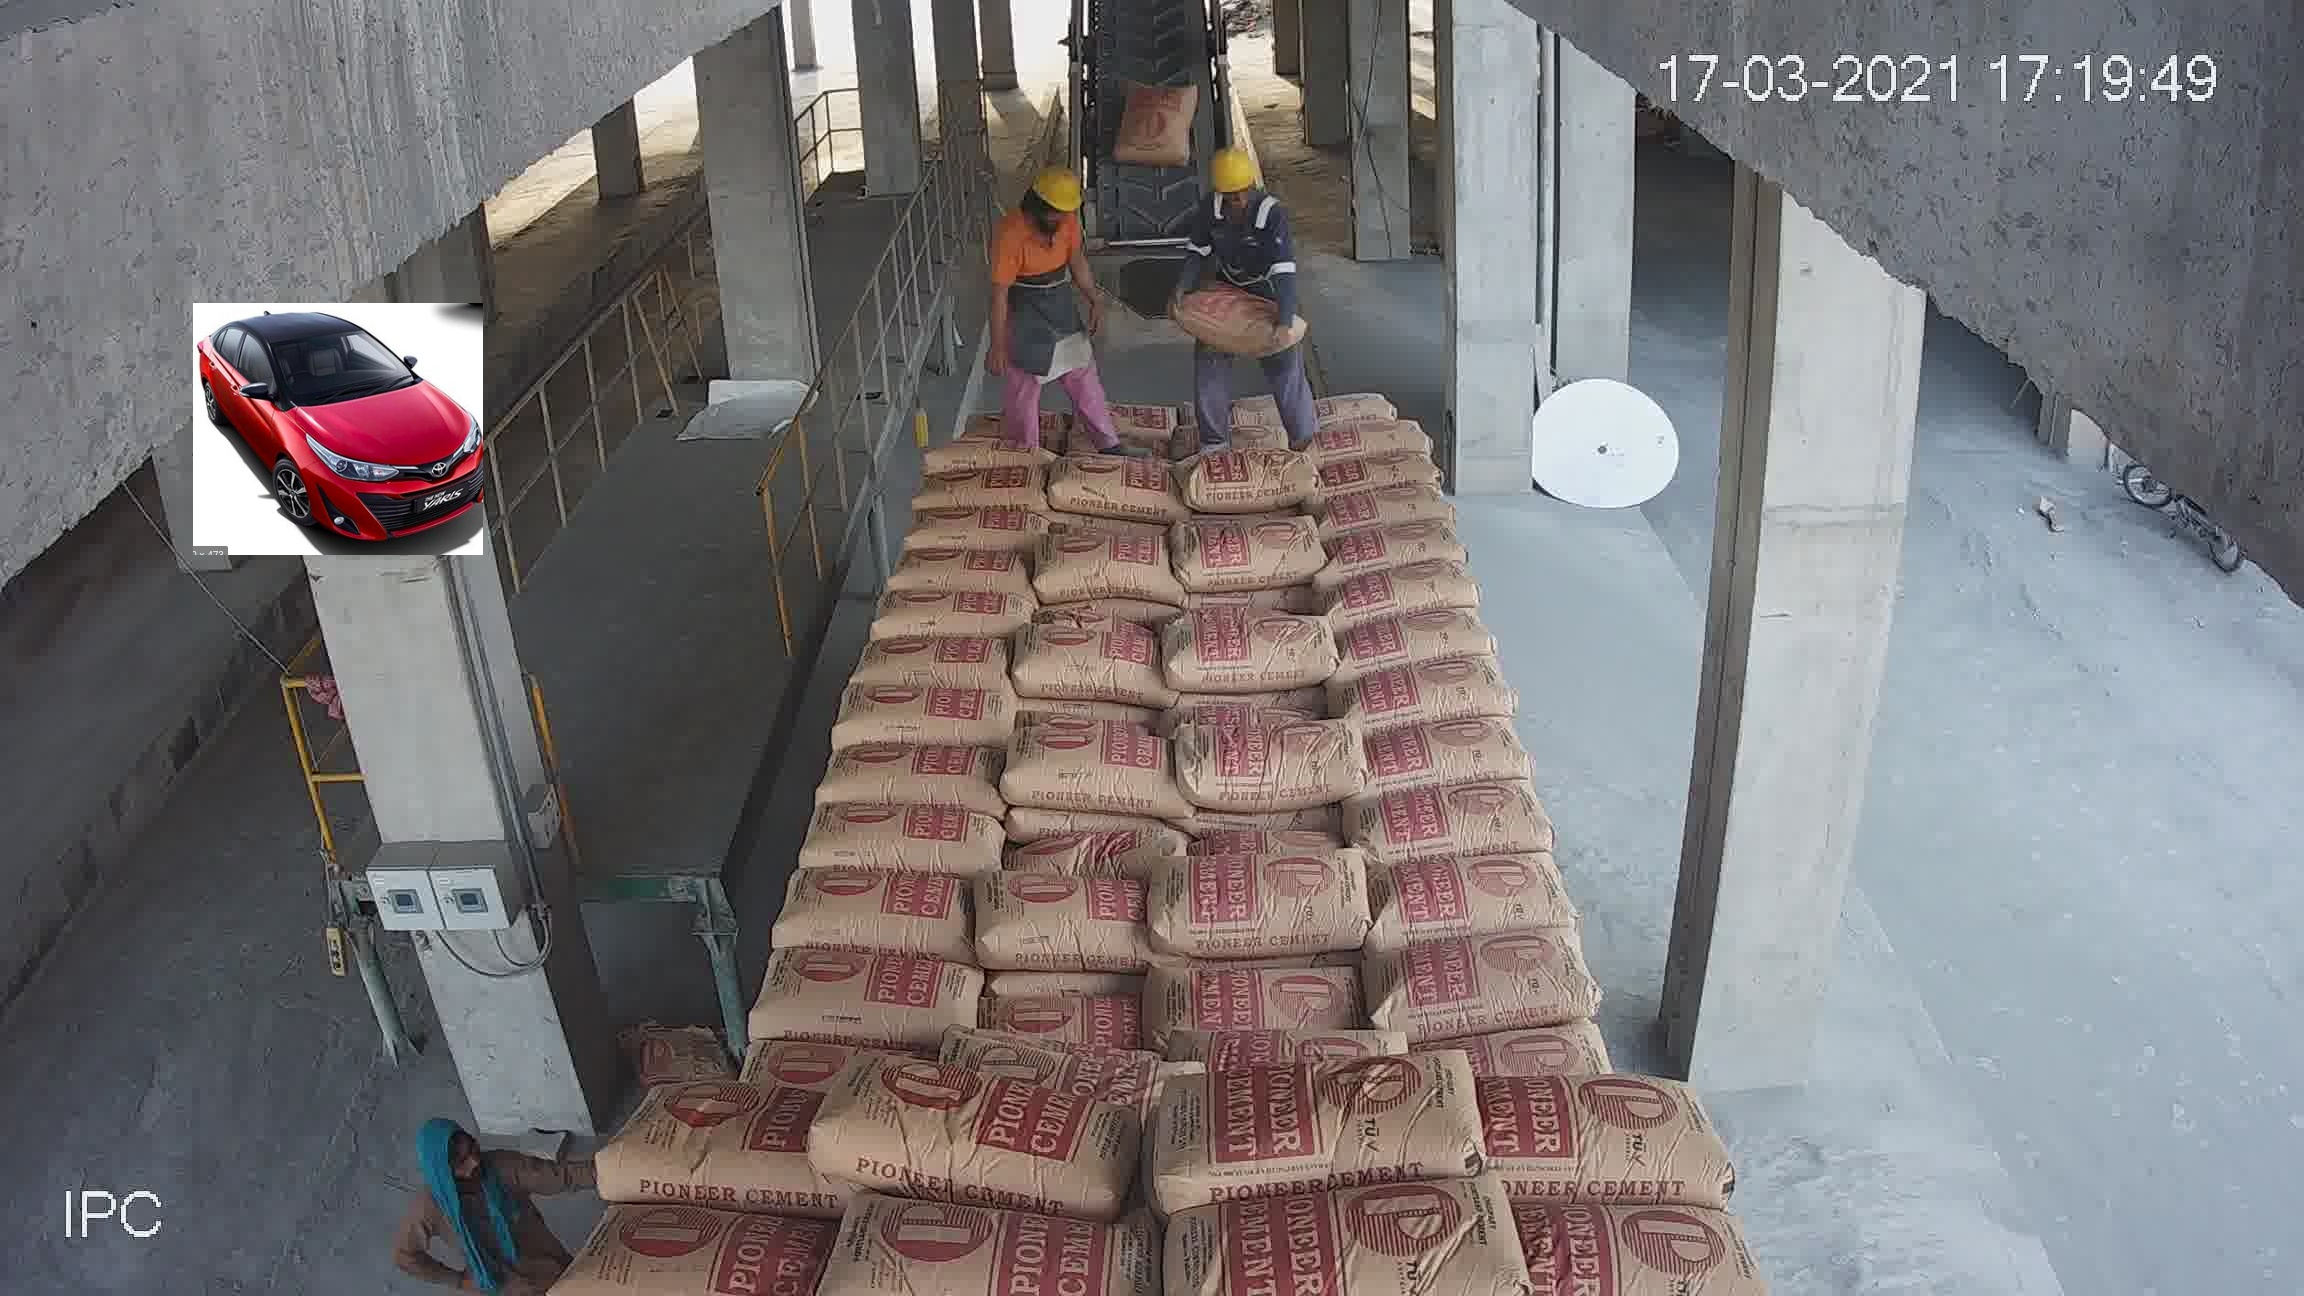bag: (1146, 813, 1407, 949), (1081, 282, 1230, 441)
bag_h: (1155, 1040, 1473, 1212), (783, 1070, 1150, 1204), (1166, 1179, 1525, 1296), (1480, 1063, 1706, 1203), (1511, 1192, 1791, 1296), (592, 1087, 799, 1212), (829, 1222, 1154, 1296), (562, 1201, 836, 1283), (722, 951, 907, 1051), (1432, 934, 1600, 1041), (761, 859, 953, 953), (968, 951, 1157, 1029), (911, 1051, 1198, 1100), (779, 798, 957, 870), (798, 737, 948, 813), (1415, 790, 1556, 858), (1427, 873, 1575, 938), (821, 685, 938, 756), (837, 627, 929, 696), (1310, 351, 1423, 404), (1339, 405, 1445, 453), (1310, 312, 1389, 358), (1302, 342, 1412, 375)
belt: (1010, 44, 1320, 684)
